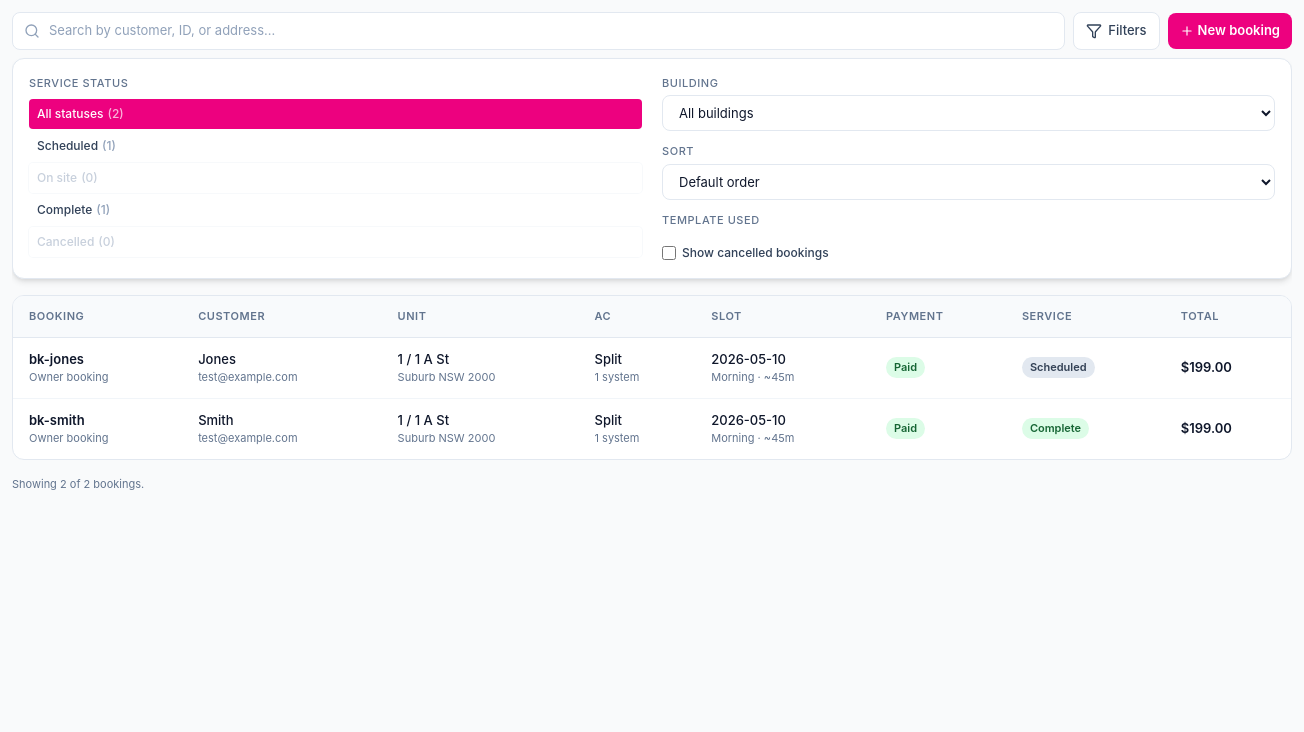
Test: BookingsView status chip counts › mutes an active chip whose bucket later drains to zero
This screenshot has width=1304, height=732.
Click the button with test id "chip-bookings-scheduled".
click(68, 146)  # box [29,131,642,161]
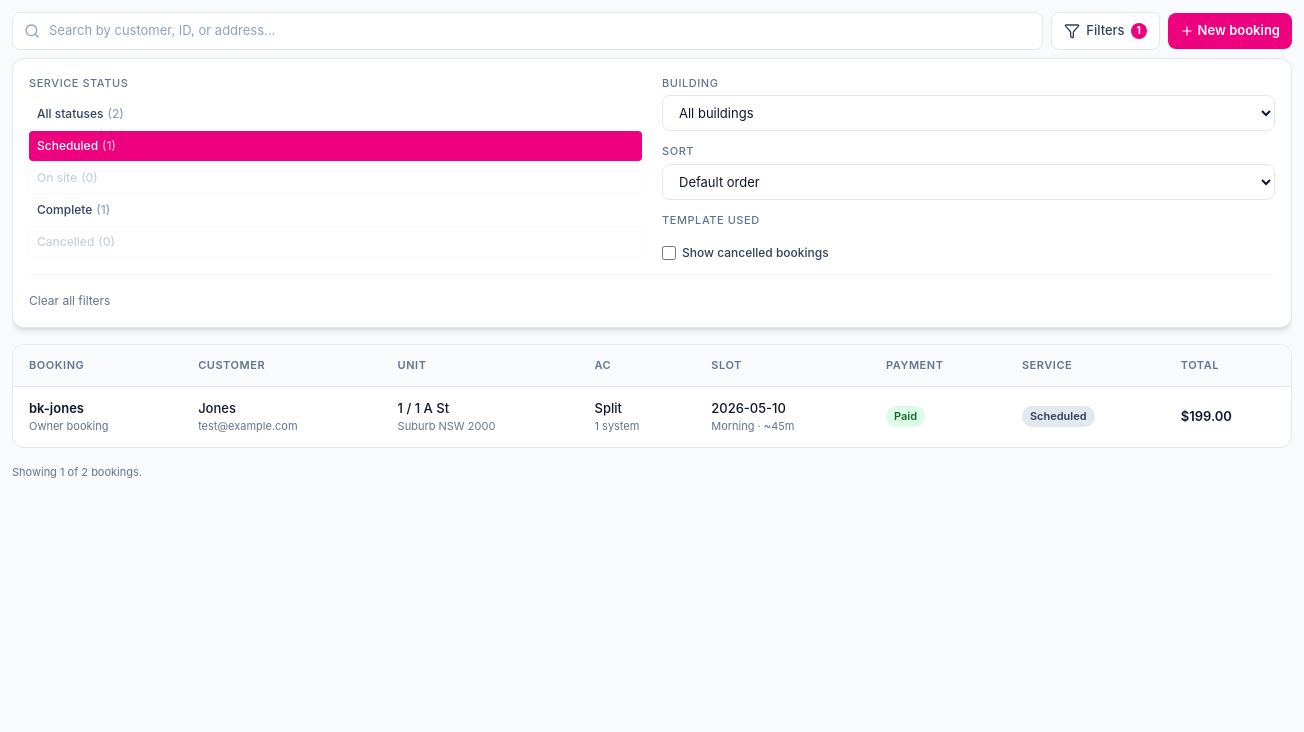
Check: the button with test id "chip-bookings-scheduled" is pressed, box [29,131,642,161]
Type "smith" into the field with placeholder "Search by customer, ID, or address…".
click(528, 31); type("smith")  # box [12,12,1043,50]
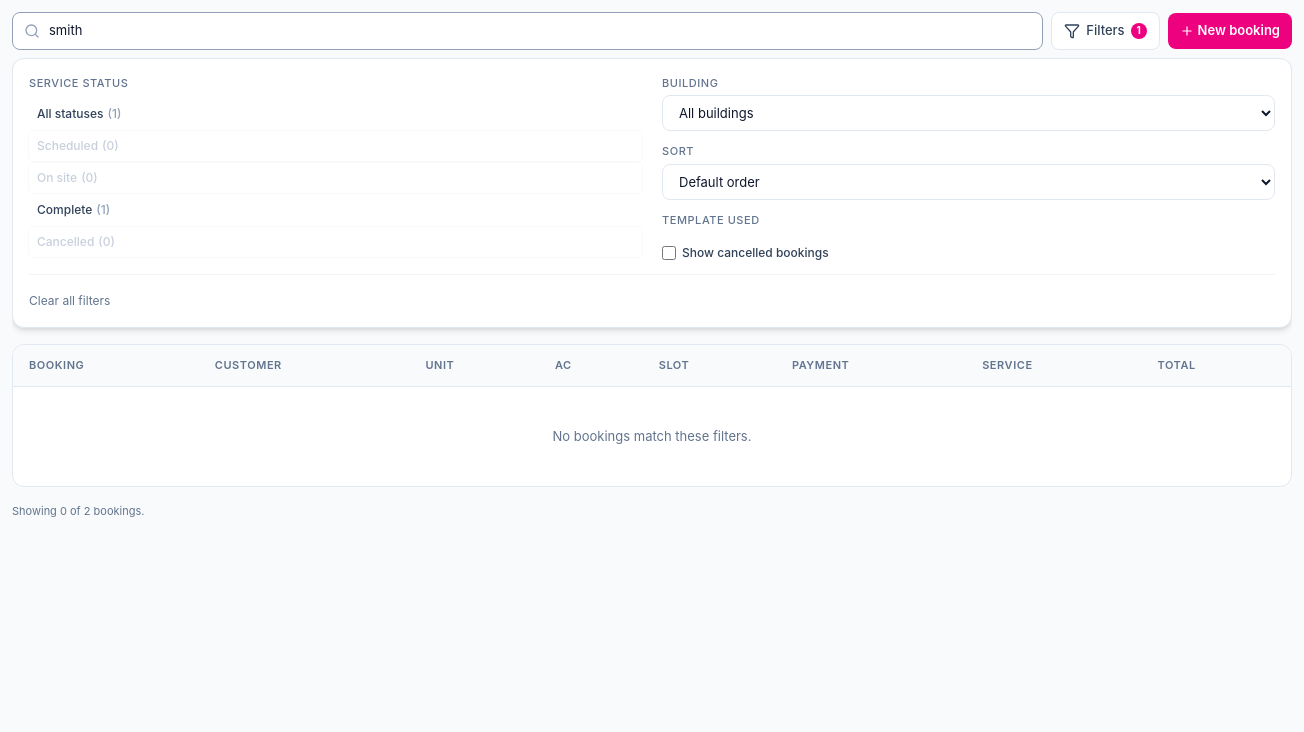
Check: the button with test id "chip-bookings-scheduled" is disabled, box [29,131,642,161]
